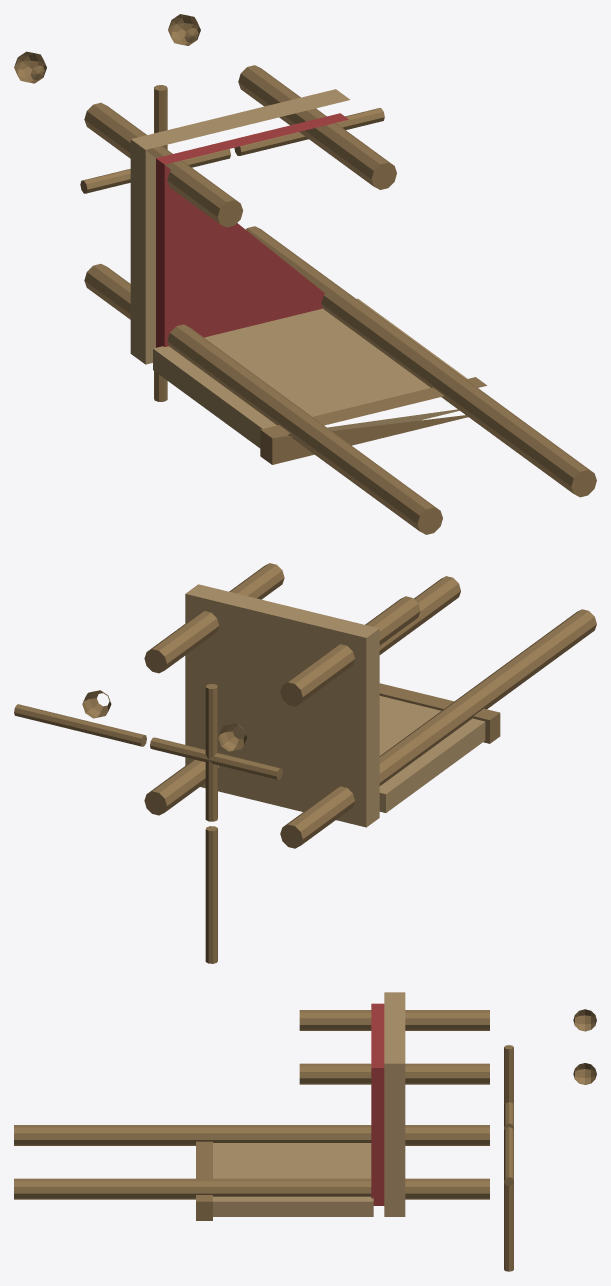
Rendered from chair.glb.
3 views of the same model, one above another, from view 1: azimuth 30°, elevation 25°; view 2: azimuth 150°, elevation 25°; view 3: azimuth 270°, elevation 25° (orthographic). The views are drawn at different scales.
Visible parts, largest first — view 1: geometry_0; view 2: geometry_0; view 3: geometry_0.
Part boxes in pixels (x1,y1,x2,y2): geometry_0: [14, 14, 596, 534]; geometry_0: [14, 563, 596, 963]; geometry_0: [14, 992, 596, 1271].
Size of the model in its own units: 0.64 by 0.63 by 1.38.
